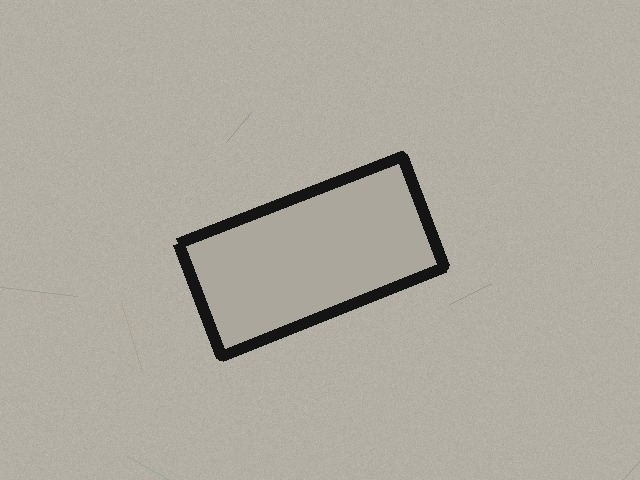parking_area: (178, 156, 444, 356)
